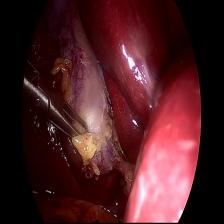Grasper: (25, 58, 93, 160)
